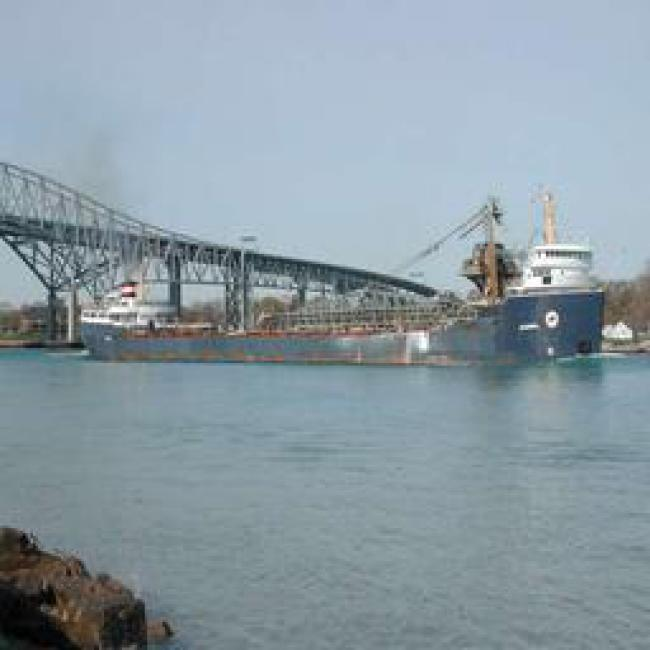Ship: (68, 293, 622, 371)
